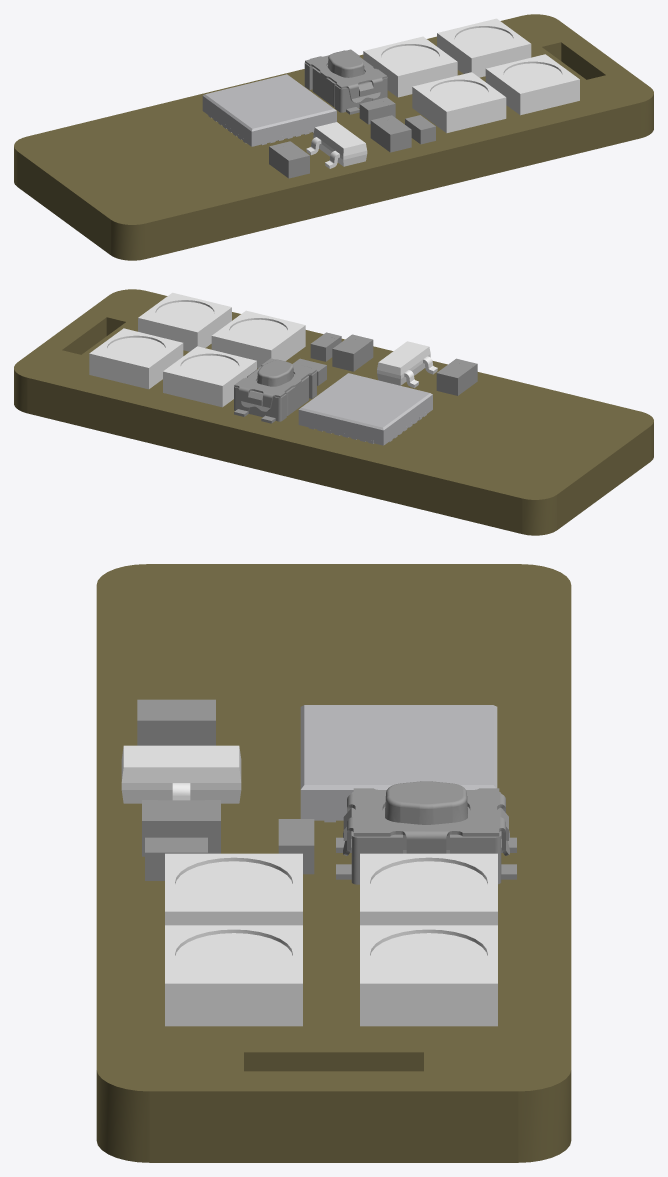
Rendered from ada-4870.glb.
3 views of the same model, one above another, from view 1: azimuth 30°, elevation 25°; view 2: azimuth 150°, elevation 25°; view 3: azimuth 270°, elevation 25° (orthographic). The views are drawn at different scales.
Visible parts, largest first — view 1: 0.16666666666666666_0.16666666666666666_0.08333333333333333_, 0.9166666666666666_0.9166666666666666_0.9166666666666666_0.8, 0.3333333333333333_0.3333333333333333_0.3333333333333333_0, 0.5833333333333334_0.5833333333333334_0.5833333333333334_0.8; view 2: 0.16666666666666666_0.16666666666666666_0.08333333333333333_, 0.9166666666666666_0.9166666666666666_0.9166666666666666_0.8, 0.3333333333333333_0.3333333333333333_0.3333333333333333_0, 0.5833333333333334_0.5833333333333334_0.5833333333333334_0.8; view 3: 0.16666666666666666_0.16666666666666666_0.08333333333333333_, 0.9166666666666666_0.9166666666666666_0.9166666666666666_0.8, 0.3333333333333333_0.3333333333333333_0.3333333333333333_0, 0.5833333333333334_0.5833333333333334_0.5833333333333334_0.8.
Boxes of the visible parts, x1=… form: 0.16666666666666666_0.16666666666666666_0.08333333333333333_: x1=14, y1=14, x2=653, y2=260; 0.9166666666666666_0.9166666666666666_0.9166666666666666_0.8: x1=306, y1=18, x2=579, y2=168; 0.3333333333333333_0.3333333333333333_0.3333333333333333_0: x1=269, y1=49, x2=435, y2=178; 0.5833333333333334_0.5833333333333334_0.5833333333333334_0.8: x1=202, y1=74, x2=336, y2=146; 0.16666666666666666_0.16666666666666666_0.08333333333333333_: x1=14, y1=289, x2=653, y2=535; 0.9166666666666666_0.9166666666666666_0.9166666666666666_0.8: x1=89, y1=292, x2=437, y2=407; 0.3333333333333333_0.3333333333333333_0.3333333333333333_0: x1=234, y1=332, x2=477, y2=423; 0.5833333333333334_0.5833333333333334_0.5833333333333334_0.8: x1=298, y1=373, x2=432, y2=445; 0.16666666666666666_0.16666666666666666_0.08333333333333333_: x1=96, y1=564, x2=571, y2=1162; 0.9166666666666666_0.9166666666666666_0.9166666666666666_0.8: x1=121, y1=745, x2=497, y2=1026; 0.3333333333333333_0.3333333333333333_0.3333333333333333_0: x1=137, y1=699, x2=516, y2=884; 0.5833333333333334_0.5833333333333334_0.5833333333333334_0.8: x1=300, y1=705, x2=497, y2=822.
Bounding box in the file's own units: 3.17 × 0.394 × 1.21.
